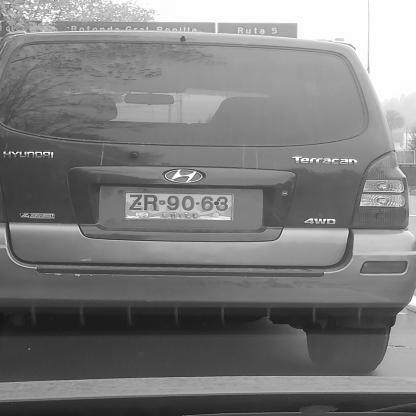Patente: (125, 192, 237, 221)
